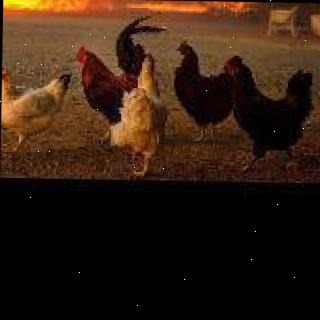fire: (120, 0, 258, 15), (2, 0, 118, 17)
